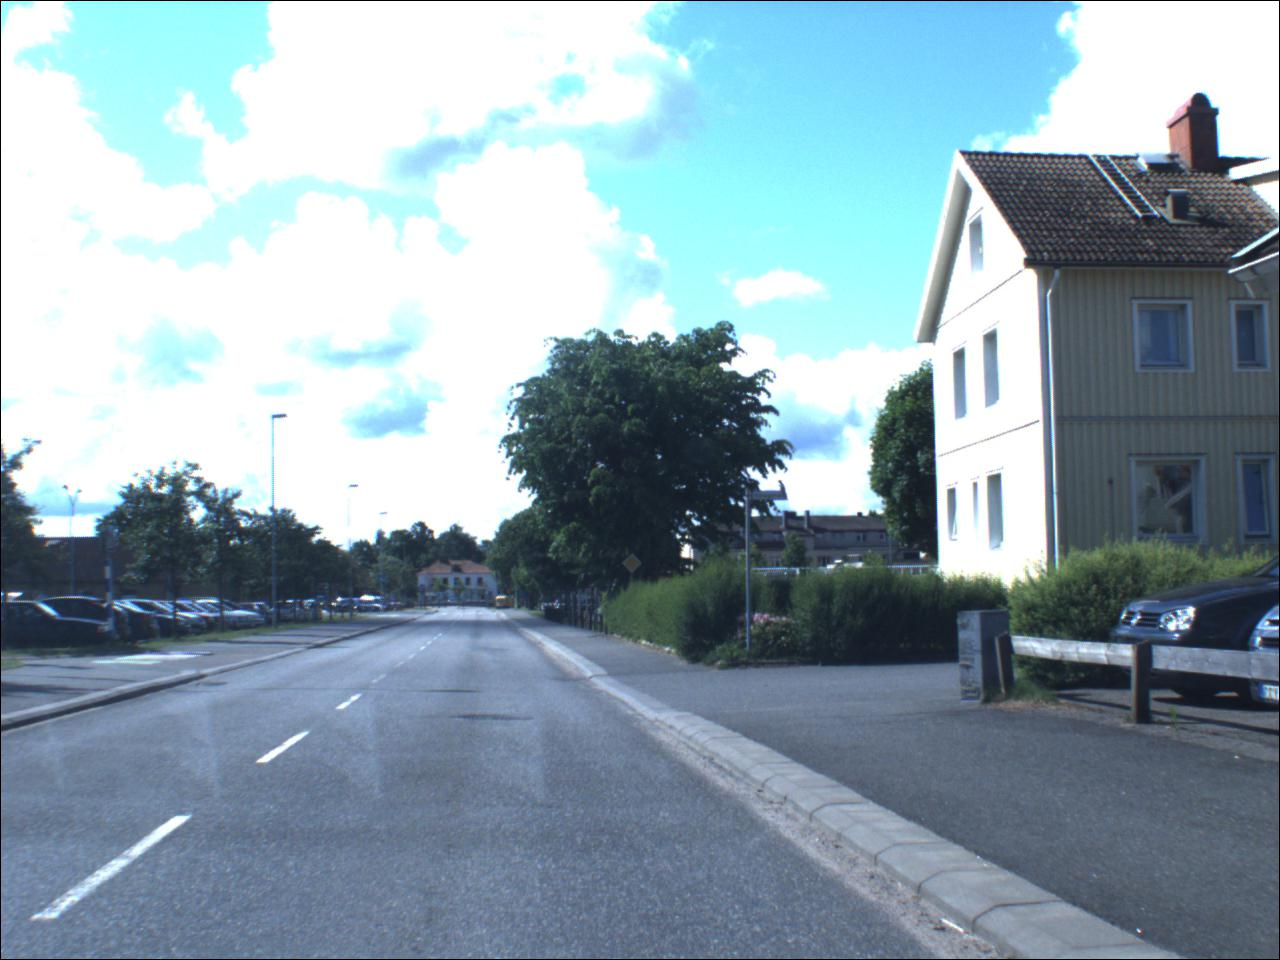PRIORITY_ROAD: (622, 550, 649, 584)
